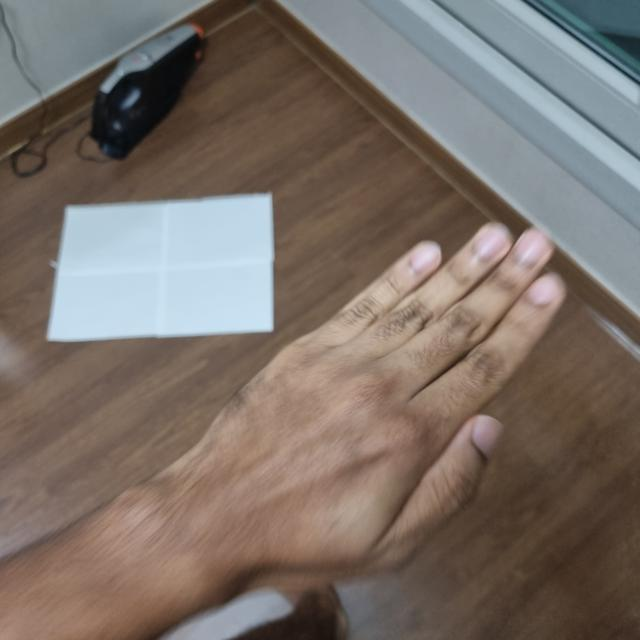Paper: (192, 227, 567, 572)
